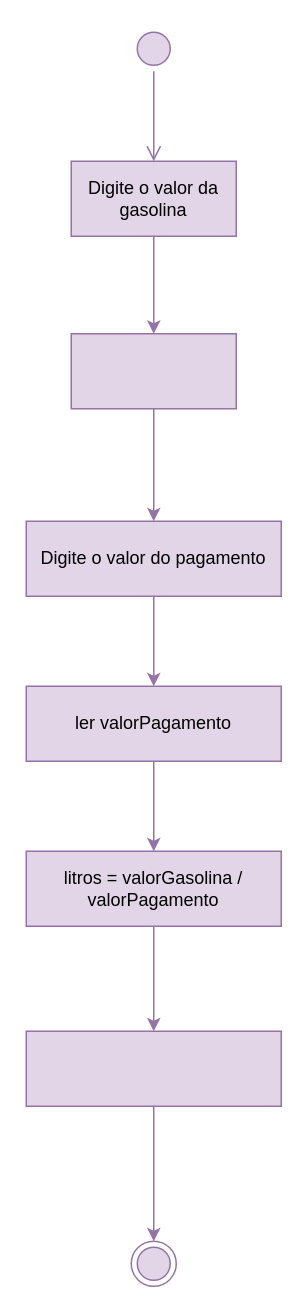
Some shapes in this 308 by 1313 pixel diagram are drawn without their labels. The centre of each missing label's shape, as x and y in pixels:
"Exibir litros" belongs at (x=153, y=1068).
"ler valorGasolina" belongs at (x=153, y=370).
